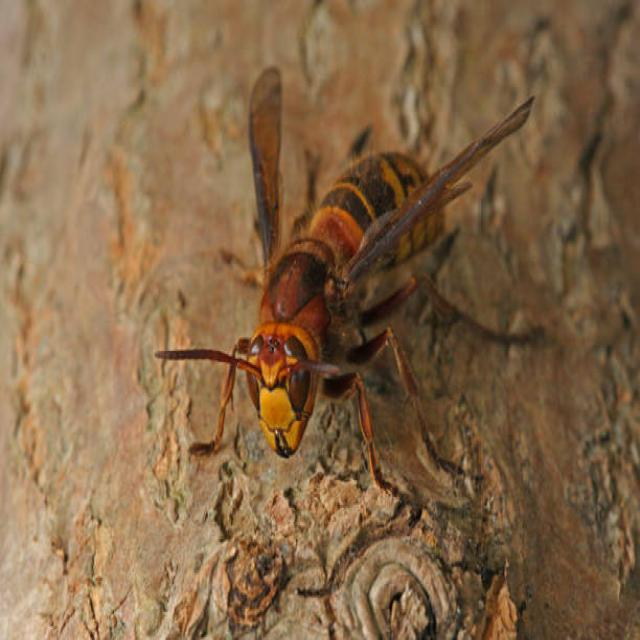Vespa Crabro: (125, 19, 542, 503)
